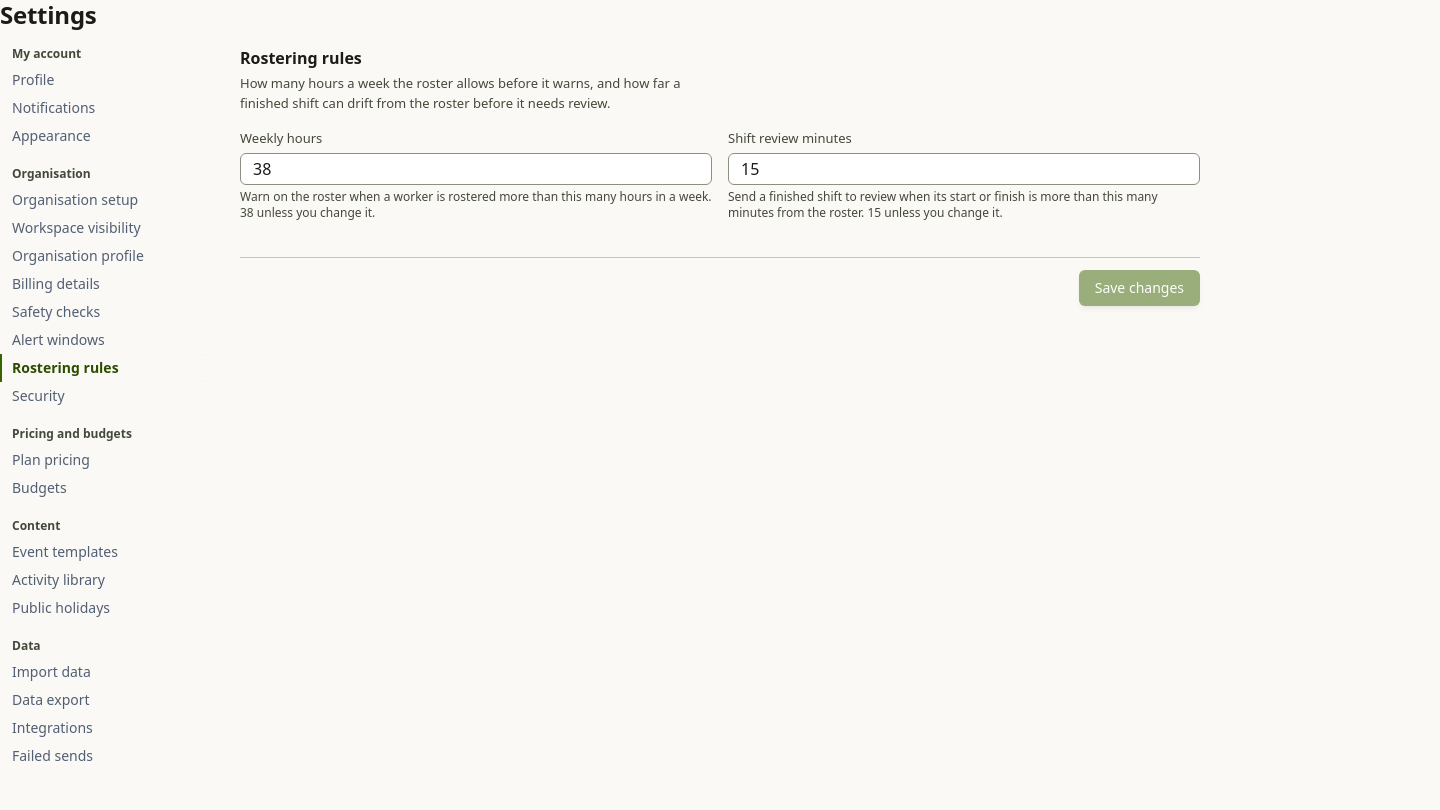
Scenario: SettingsPage — unsaved-changes warning (PP-77) › names Rostering rules in the section-switch prompt
Replace the text in the number field labelled "Shift review minutes" with "20" at coordinates (964, 168), box [728,152,1200,184]
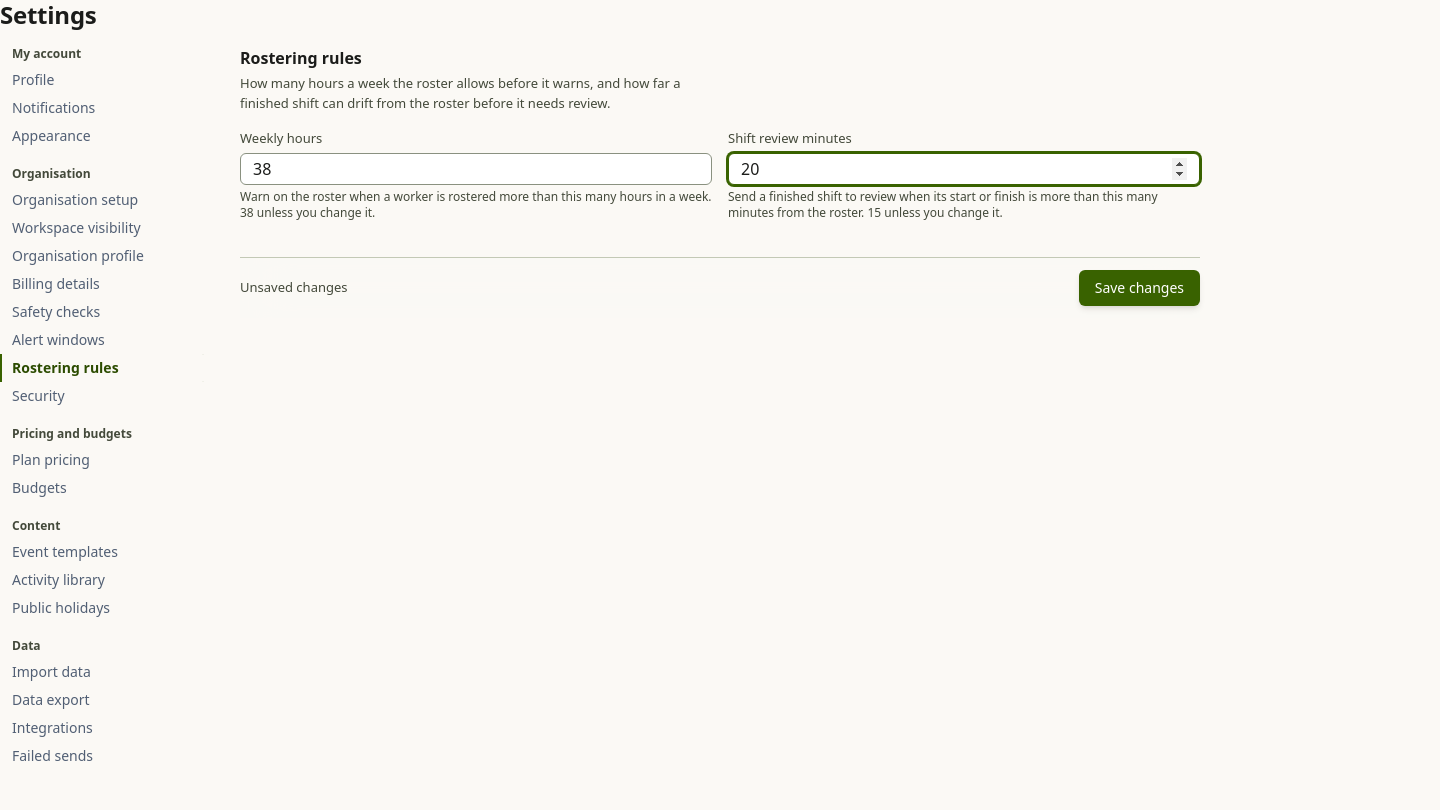
Click the link "Budgets" at coordinates (39, 488), box [12,478,67,497]
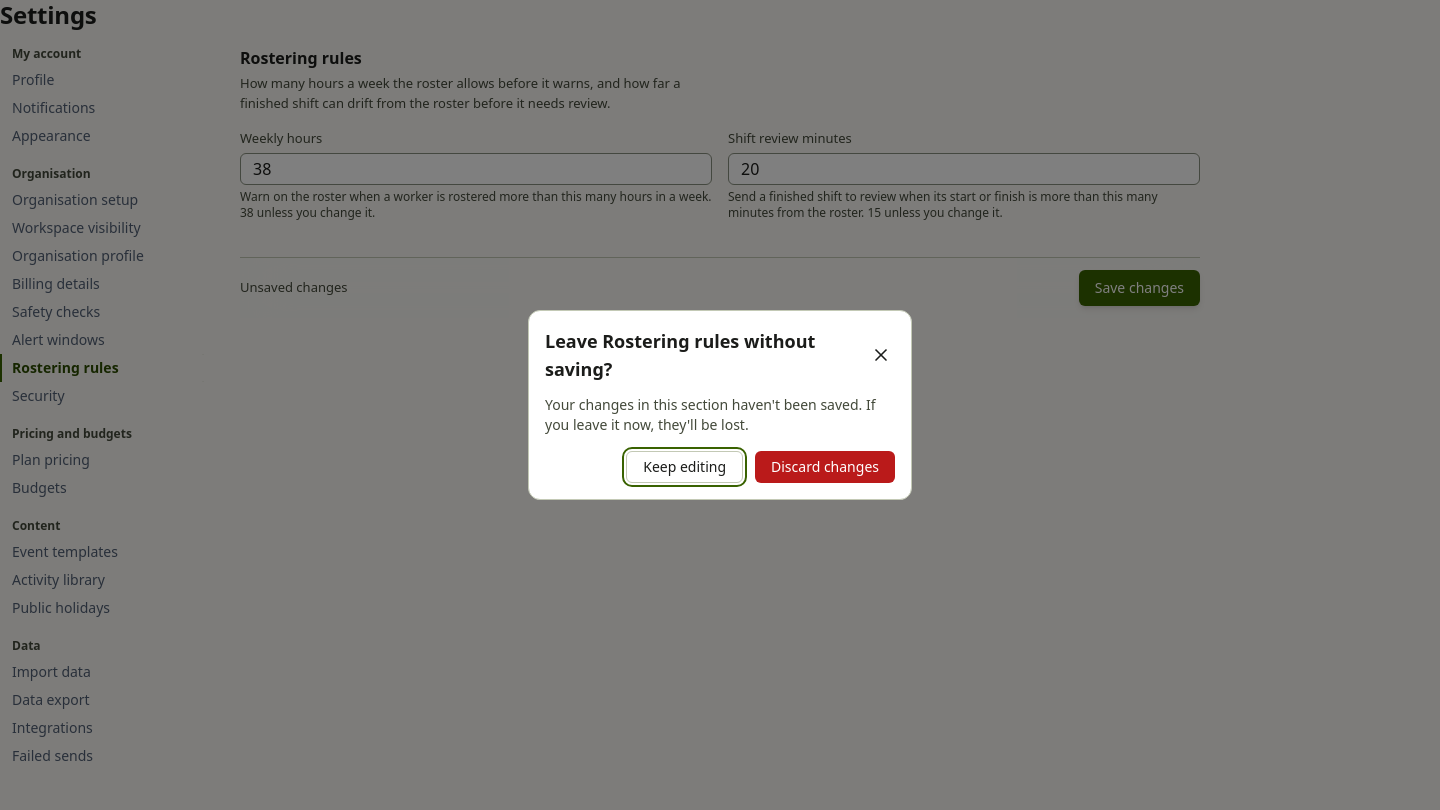
Result: the dialog "Leave Rostering rules without saving?" is shown at [528,310,912,500]
